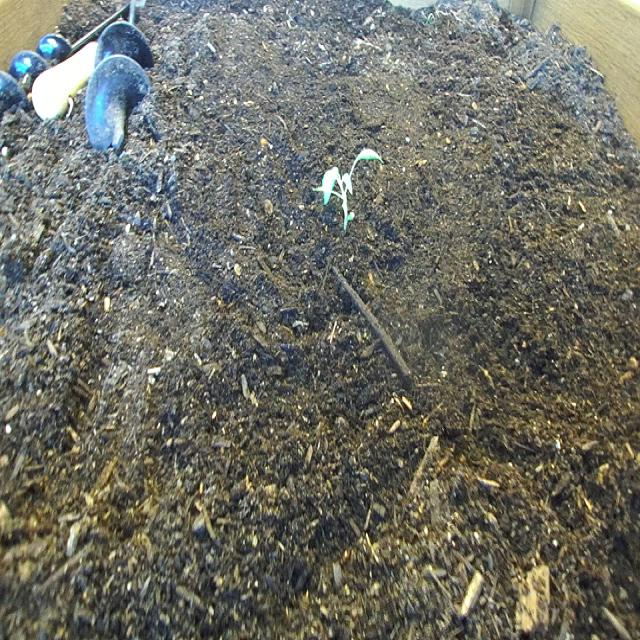Healthy: (310, 143, 386, 238)
